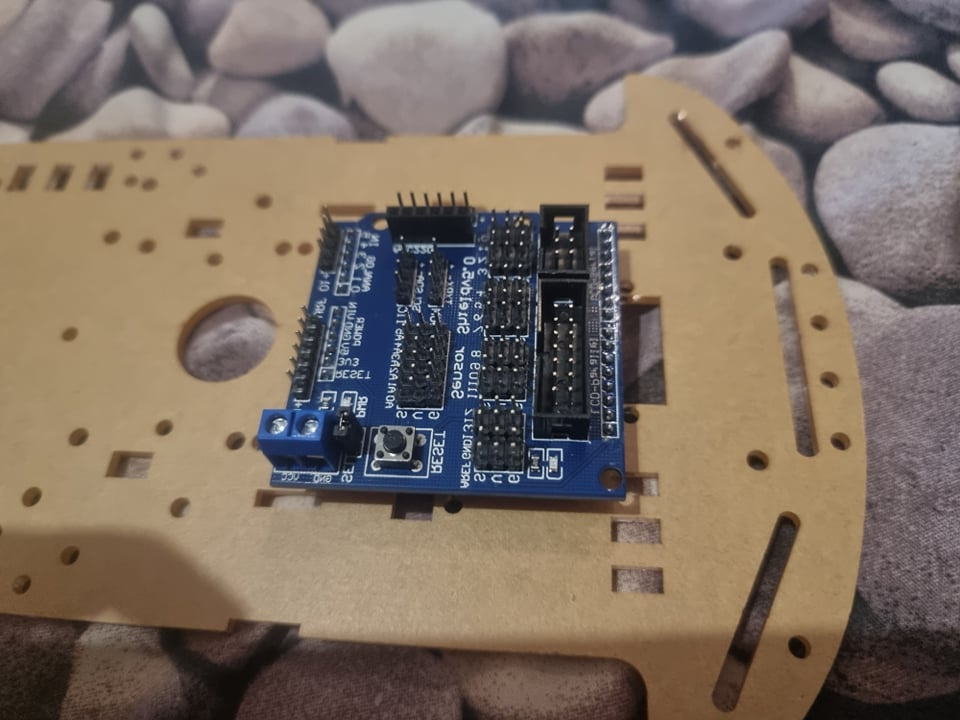5V EXPANSION: (260, 191, 630, 500)
